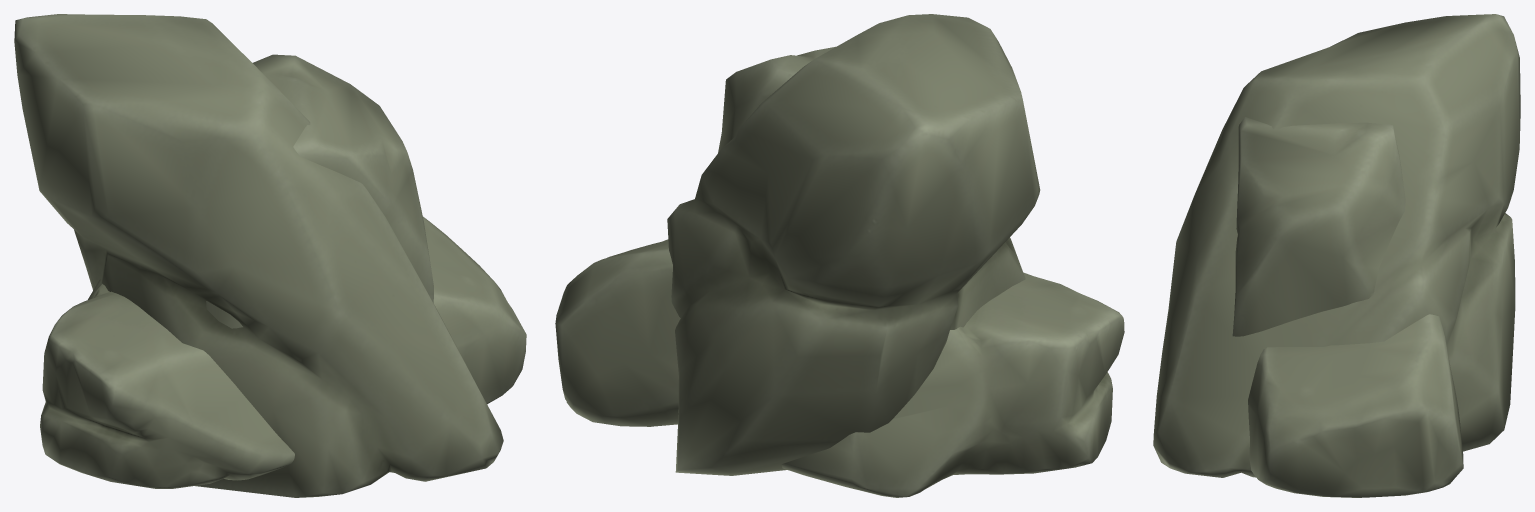
File: rockGroup.fbx
The picture shows the model from 3 angles, left to right: view 1: azimuth 30°, elevation 25°; view 2: azimuth 150°, elevation 25°; view 3: azimuth 270°, elevation 25°; orthographic projection. The views are drawn at different scales.
Parts seen in each view (by area): view 1: rock6, rock5, rock4; view 2: rock6, rock5, rock4; view 3: rock6, rock5, rock4.
Part boxes in pixels (x1,y1,x2,y2): rock6: (14,14,503,497); rock5: (40,216,526,488); rock4: (206,54,433,328); rock6: (667,14,1040,475); rock5: (555,239,1124,497); rock4: (718,46,835,152); rock6: (1153,14,1520,477); rock5: (1248,314,1463,497); rock4: (1232,117,1405,336).
Bounding box in the file's own units: 168 × 141 × 137.
